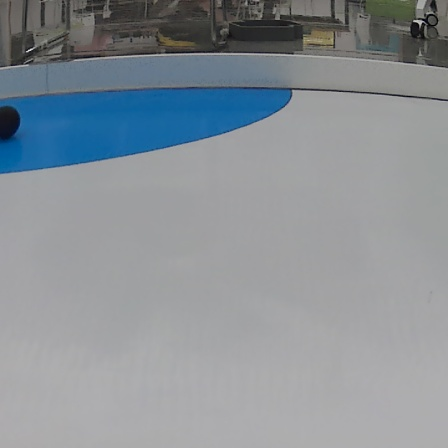black: (0, 107, 22, 139)
blue_base: (0, 88, 294, 184)
